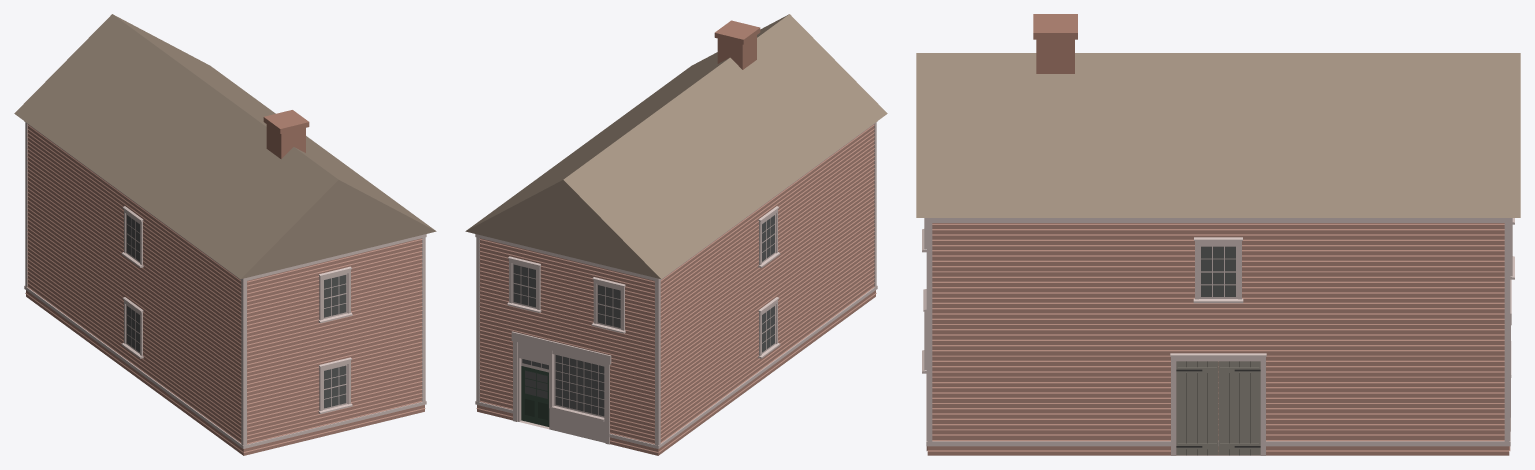
Rendered from recon_1835_core_c3_053__inferred_1835.glb.
3 renders of one model, left to right at view 1: azimuth 30°, elevation 25°; view 2: azimuth 150°, elevation 25°; view 3: azimuth 270°, elevation 25°, orthographic. The views are drawn at different scales.
Visible parts, largest first — view 1: recon_1835_core_c3_053__inferred_1835; view 2: recon_1835_core_c3_053__inferred_1835; view 3: recon_1835_core_c3_053__inferred_1835.
Boxes of the visible parts, x1=… form: recon_1835_core_c3_053__inferred_1835: x1=14, y1=14, x2=436, y2=455; recon_1835_core_c3_053__inferred_1835: x1=465, y1=14, x2=887, y2=455; recon_1835_core_c3_053__inferred_1835: x1=916, y1=14, x2=1520, y2=455.
Size of the model in its own units: 6.61 by 8.99 by 13.21.
